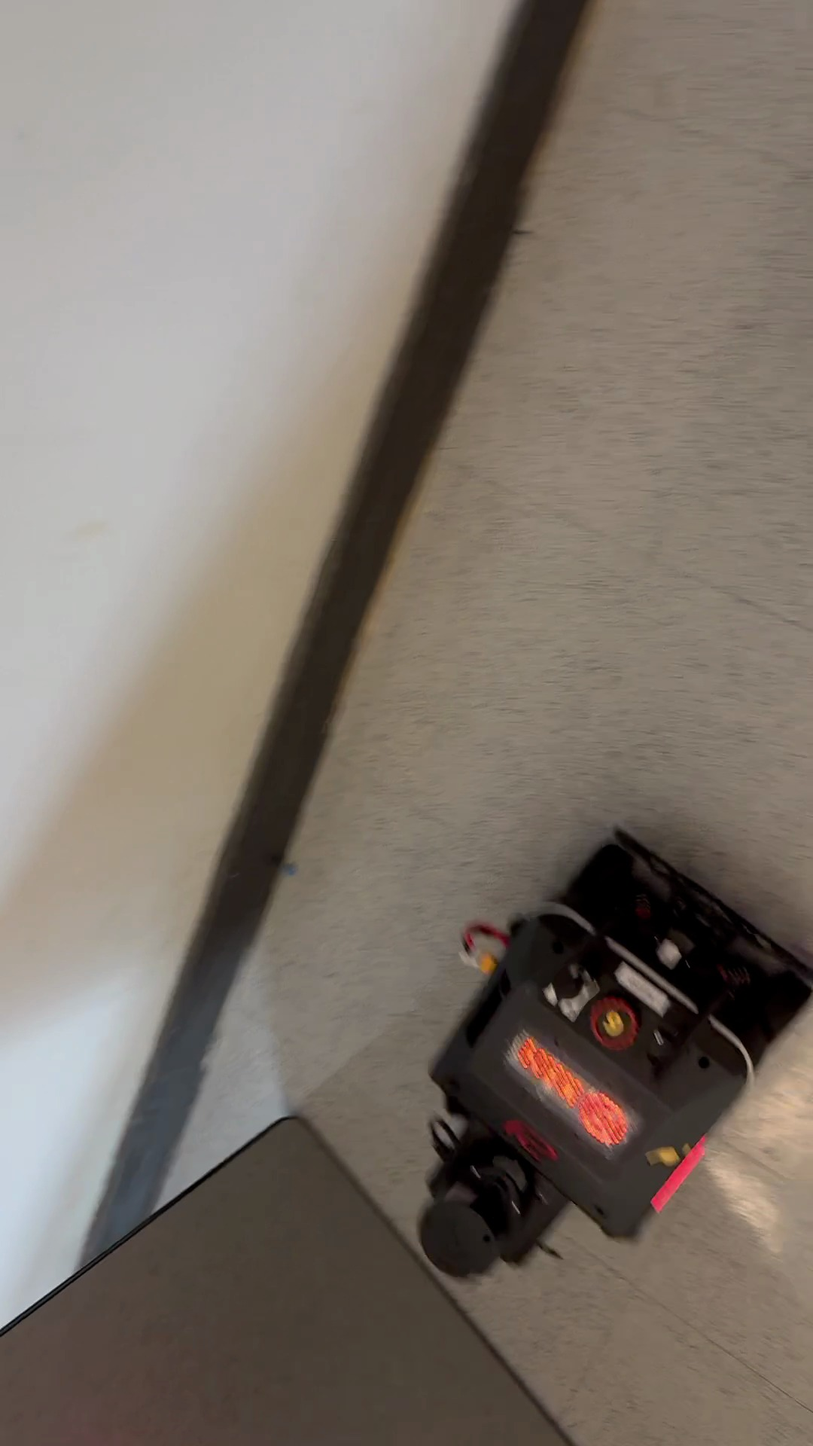racecar: (422, 832, 807, 1275)
